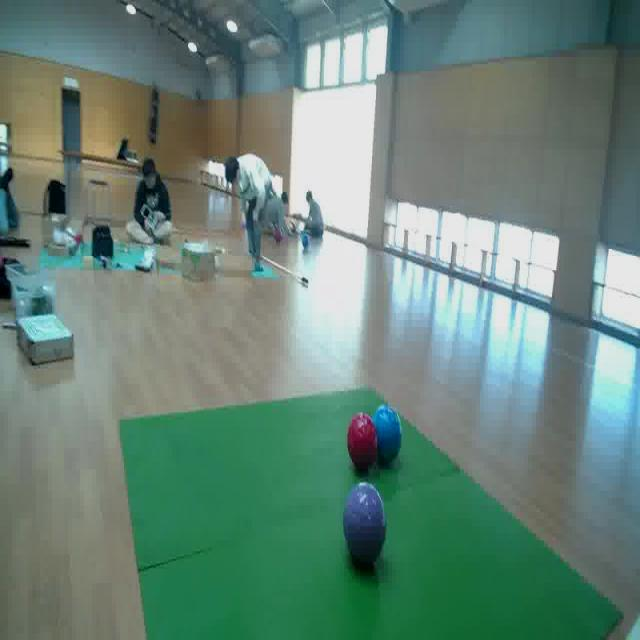blue_ball: (373, 403, 405, 457)
purple_ball: (341, 480, 390, 570)
red_ball: (347, 410, 384, 472)
